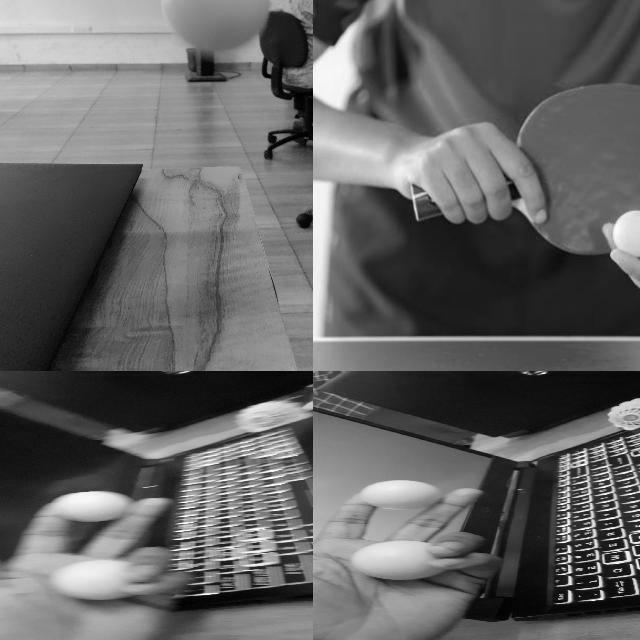ping-pong-ball: (162, 0, 269, 49), (353, 540, 441, 580), (50, 560, 136, 600), (51, 490, 134, 520), (360, 481, 440, 508), (614, 209, 639, 257)
